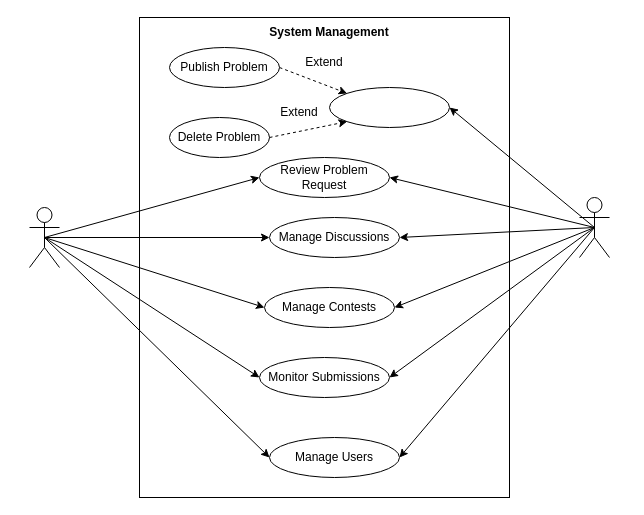
The diagram is 644 pixels wide and 515 high, and some of its shapes have lost their labels. Each missing label, with the centre of its shape:
"Manage Problems" goes at point 389,107.
"Moderator" goes at point 44,237.
"Superadmin" goes at point 594,227.
